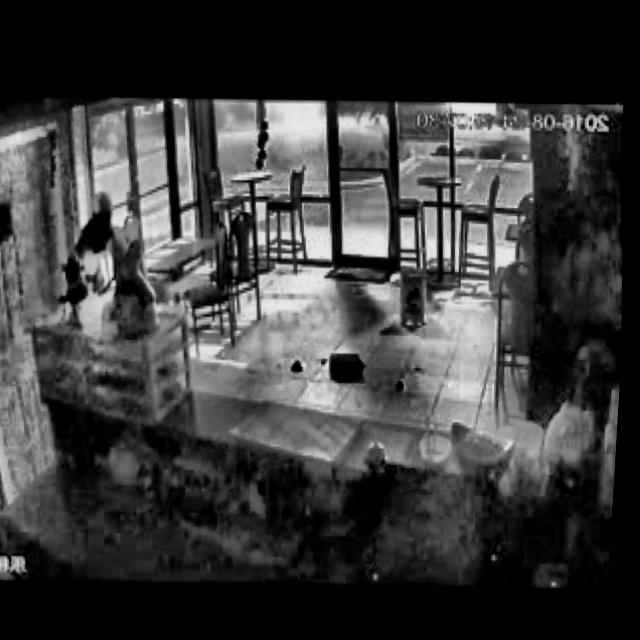burglary: (47, 159, 143, 342)
